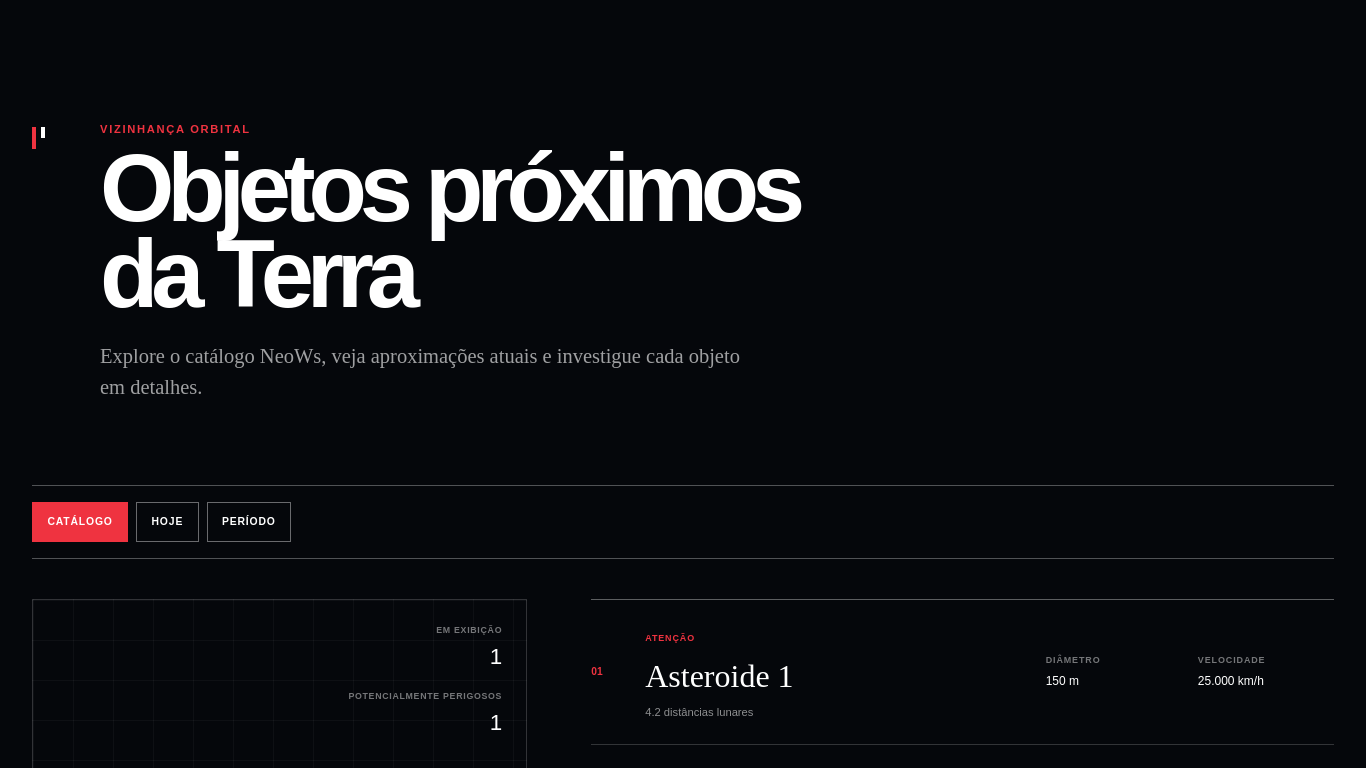
AsteroidSection › alterna para as aproximações de hoje
Click the button "Hoje" at (167, 522), box x1=136 y1=502 x2=198 y2=542
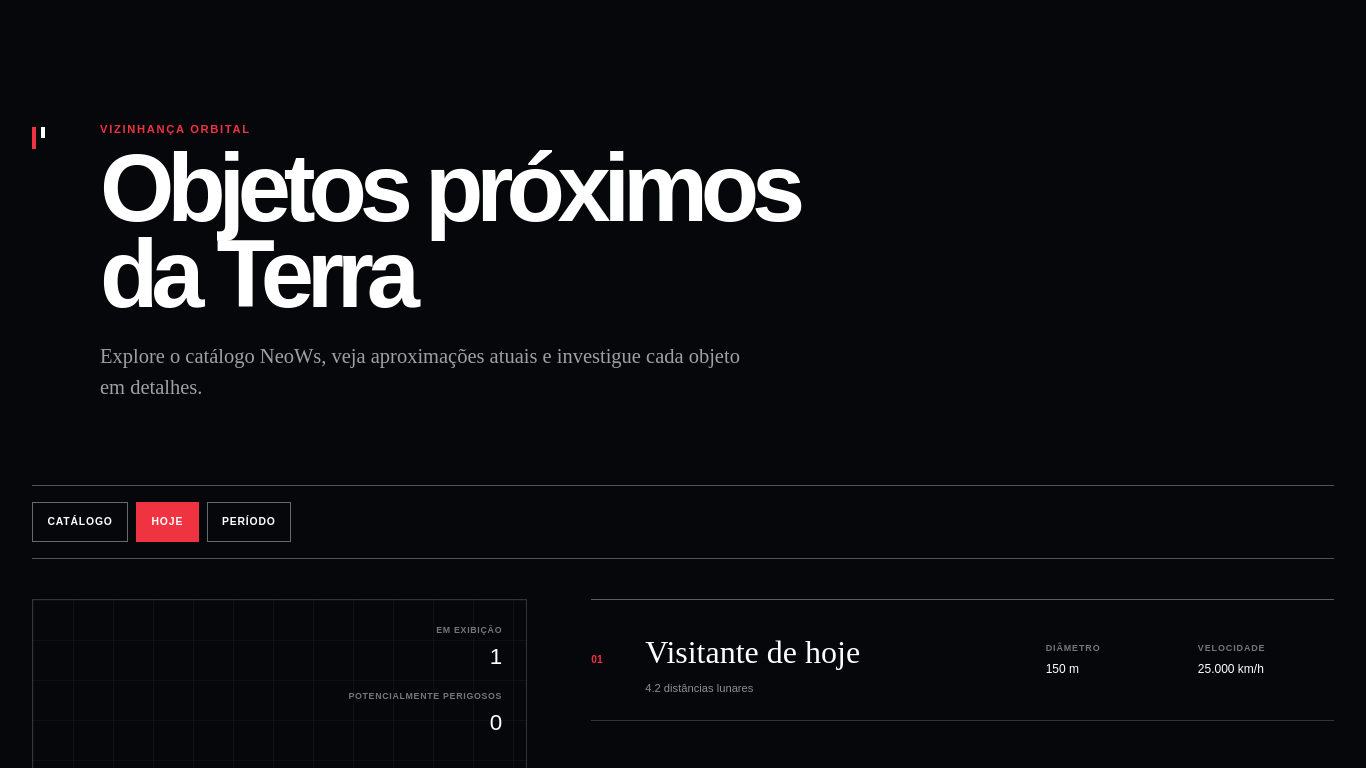
Result: the text "Visitante de hoje" is shown at x1=645 y1=634 x2=860 y2=670
